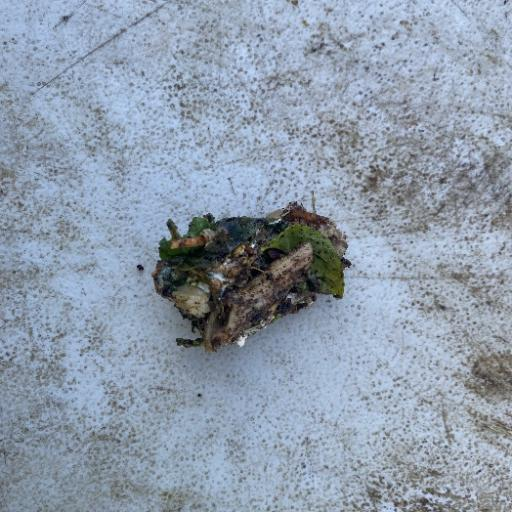Waste: (150, 200, 350, 355)
